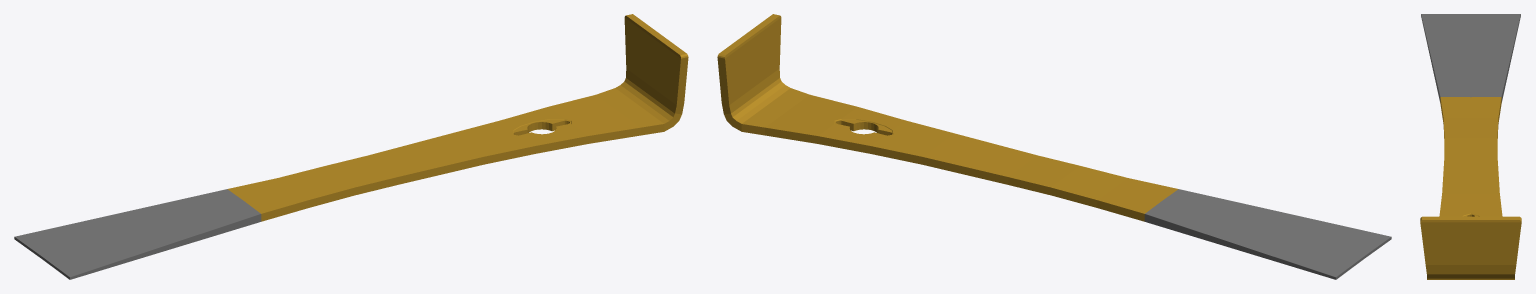
The model's file is leve_cadre_metal.fbx.
3 views of the same model, side by side, from view 1: azimuth 30°, elevation 25°; view 2: azimuth 150°, elevation 25°; view 3: azimuth 270°, elevation 25° (orthographic). The views are drawn at different scales.
Parts seen in each view (by area): view 1: Leve_cadre; view 2: Leve_cadre; view 3: Leve_cadre.
Part boxes in pixels (x1,y1,x2,y2): Leve_cadre: (14,14,688,279); Leve_cadre: (717,14,1391,279); Leve_cadre: (1420,14,1521,279).
Size of the model in its own units: 24.51 by 2.85 by 3.87.
